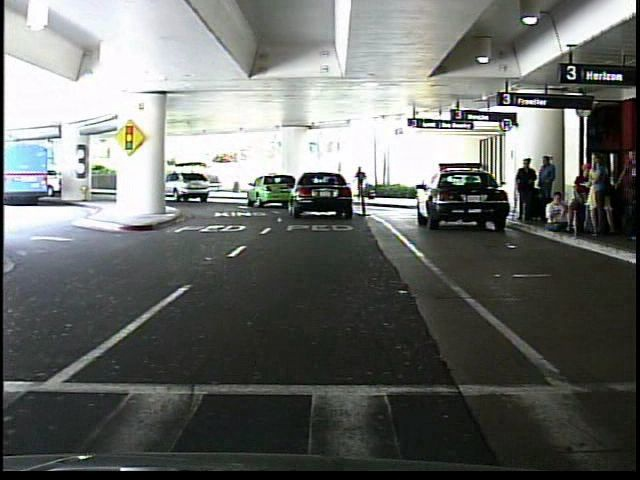person: (516, 153, 539, 223), (535, 152, 556, 223), (355, 164, 371, 205)
